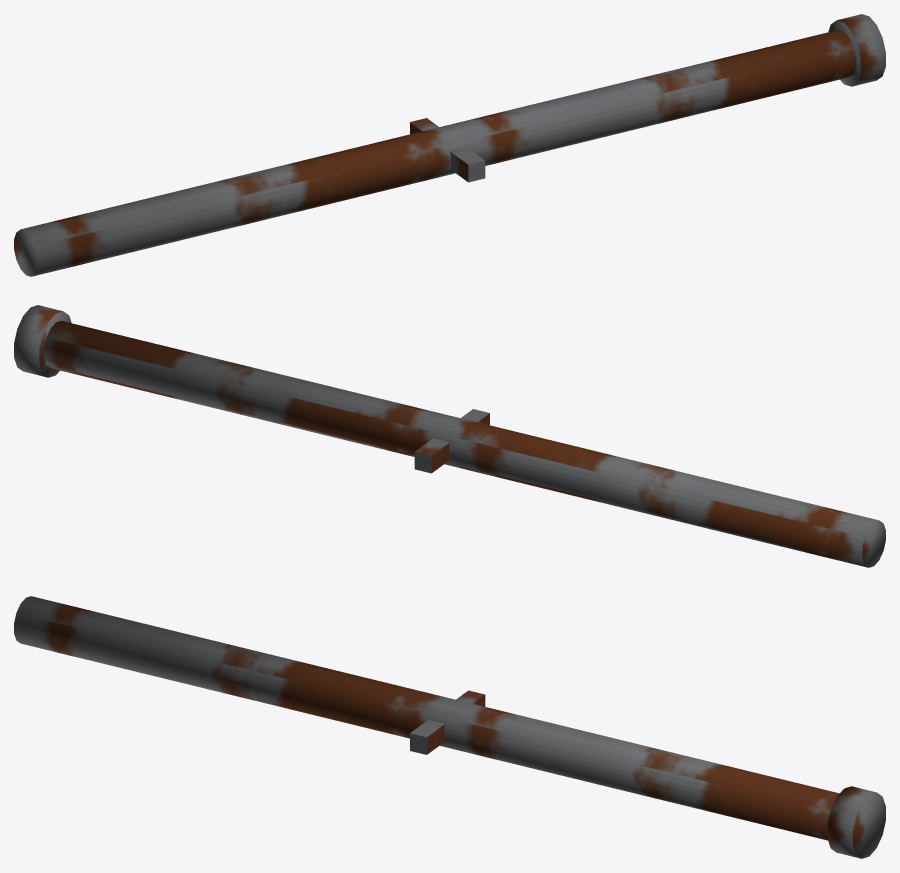
The model's file is SM_Pipe.fbx.
3 views of the same model, one above another, from view 1: azimuth 30°, elevation 25°; view 2: azimuth 150°, elevation 25°; view 3: azimuth 330°, elevation 25° (orthographic).
Parts seen in each view (by area): view 1: SM_Pipe; view 2: SM_Pipe; view 3: SM_Pipe.
Boxes of the visible parts, x1=… form: SM_Pipe: x1=14, y1=14, x2=885, y2=276; SM_Pipe: x1=14, y1=305, x2=885, y2=567; SM_Pipe: x1=14, y1=596, x2=885, y2=858.
Size of the model in its own units: 2 by 0.14 by 0.24.
Materials: 1 (1 with a texture image).
